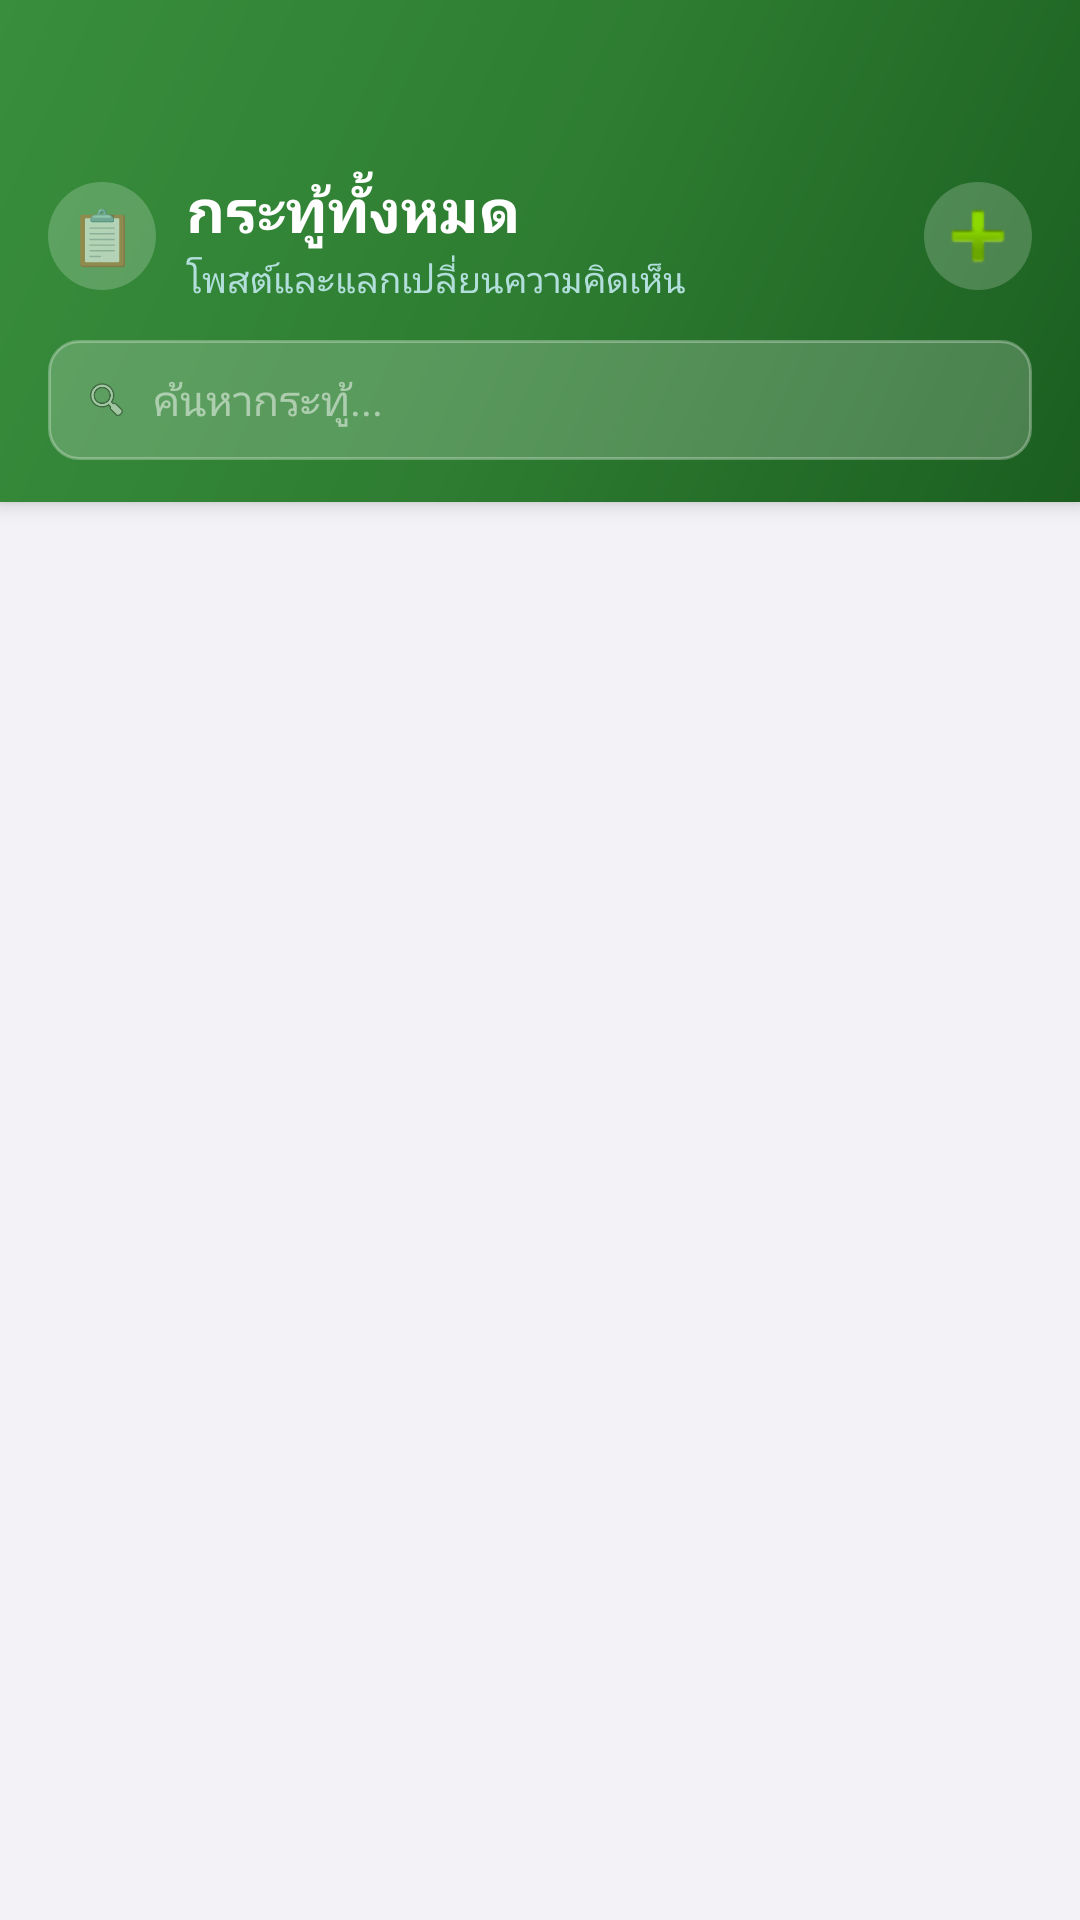

Screen size 1080×1920. Icon name, then its box in pixels as box=[x1, y1, x2, y2]:
Add post: box=[924, 182, 1032, 290]
Search: box=[90, 383, 123, 416]
